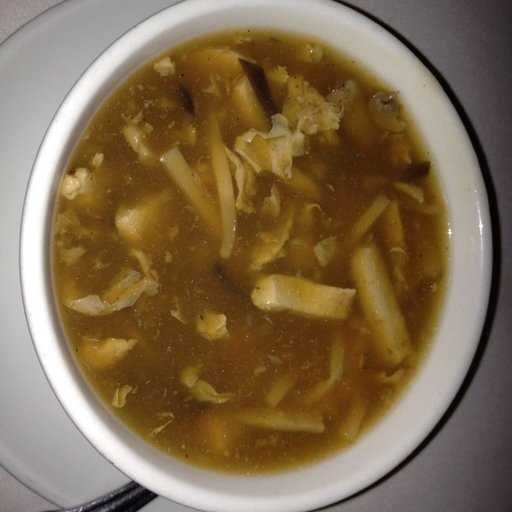soup: (41, 27, 446, 467)
